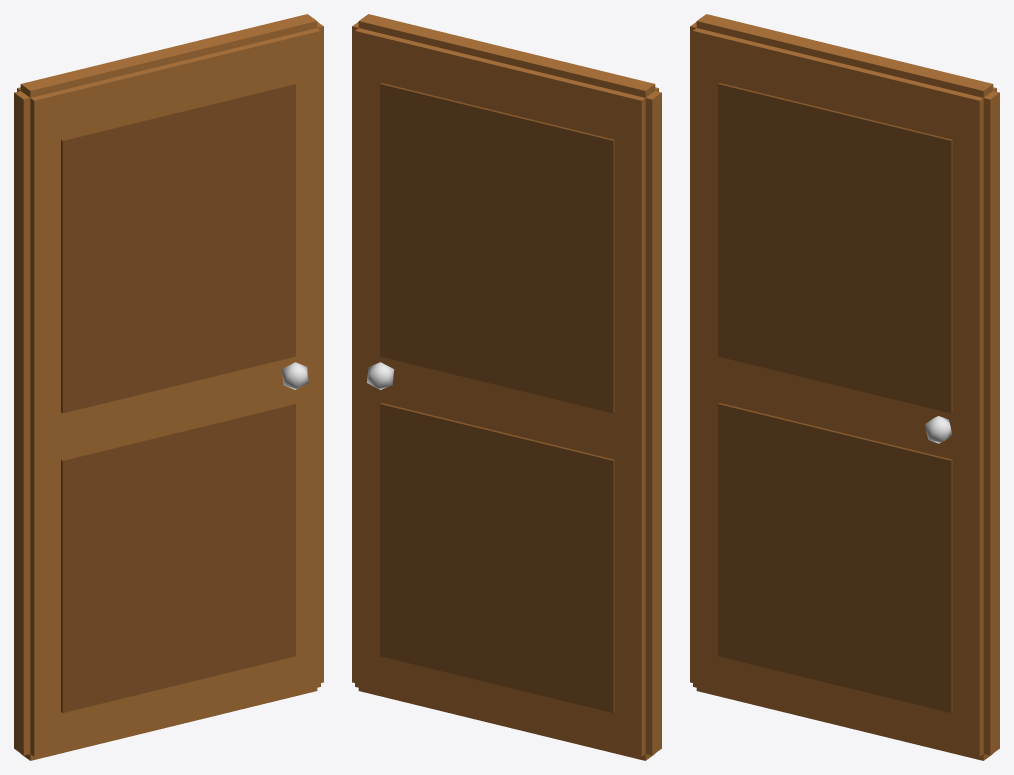
The model's file is lihzahrd_house_door_v0.glb.
The picture shows the model from 3 angles, left to right: view 1: azimuth 30°, elevation 25°; view 2: azimuth 150°, elevation 25°; view 3: azimuth 330°, elevation 25°; orthographic projection.
Visible parts, largest first — view 1: lihzahrd_house_door_v0; view 2: lihzahrd_house_door_v0; view 3: lihzahrd_house_door_v0.
Boxes of the visible parts, x1,y1,x2,y2 form: lihzahrd_house_door_v0: (14,14,323,760); lihzahrd_house_door_v0: (352,14,661,760); lihzahrd_house_door_v0: (690,14,999,760).
Bounding box in the file's own units: 0.9 × 1.92 × 0.2381.
